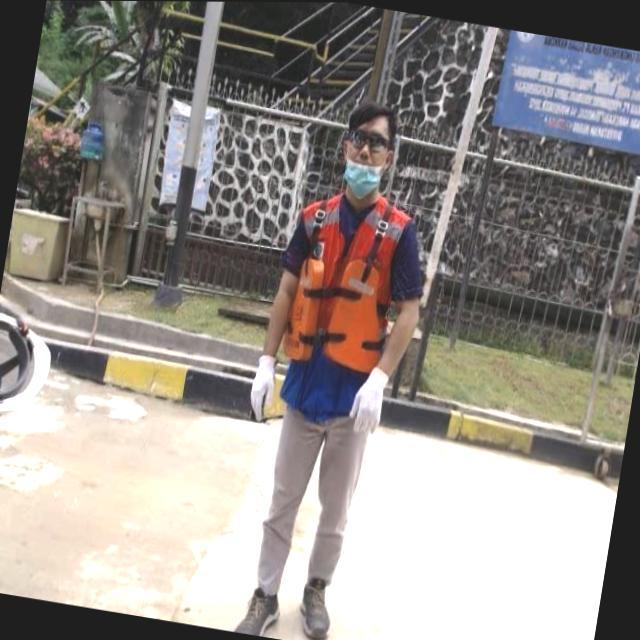goggles_on: (346, 125, 394, 154)
